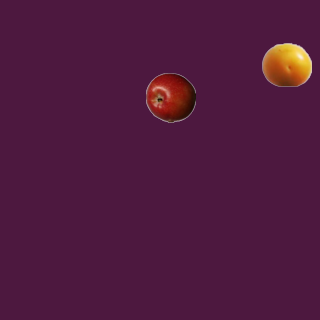Apple Braeburn: (145, 72, 195, 122)
Cherry Wax Yellow: (261, 39, 311, 89)
